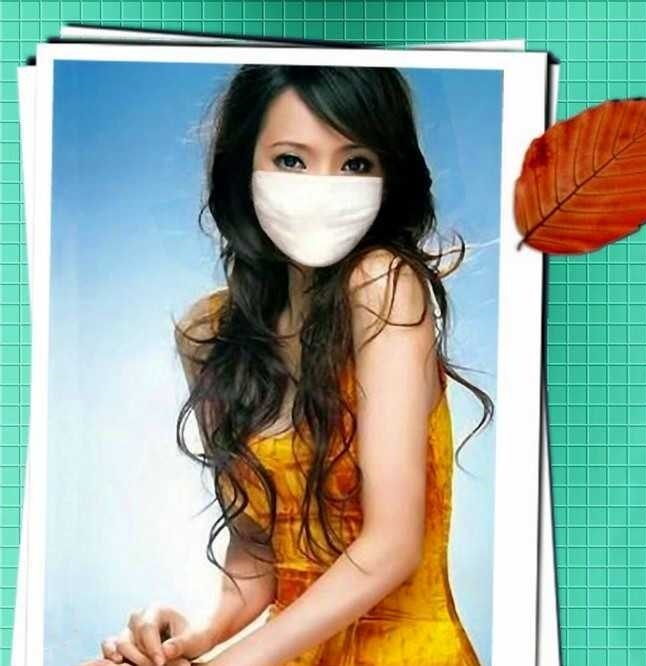face_mask: (250, 86, 383, 267)
